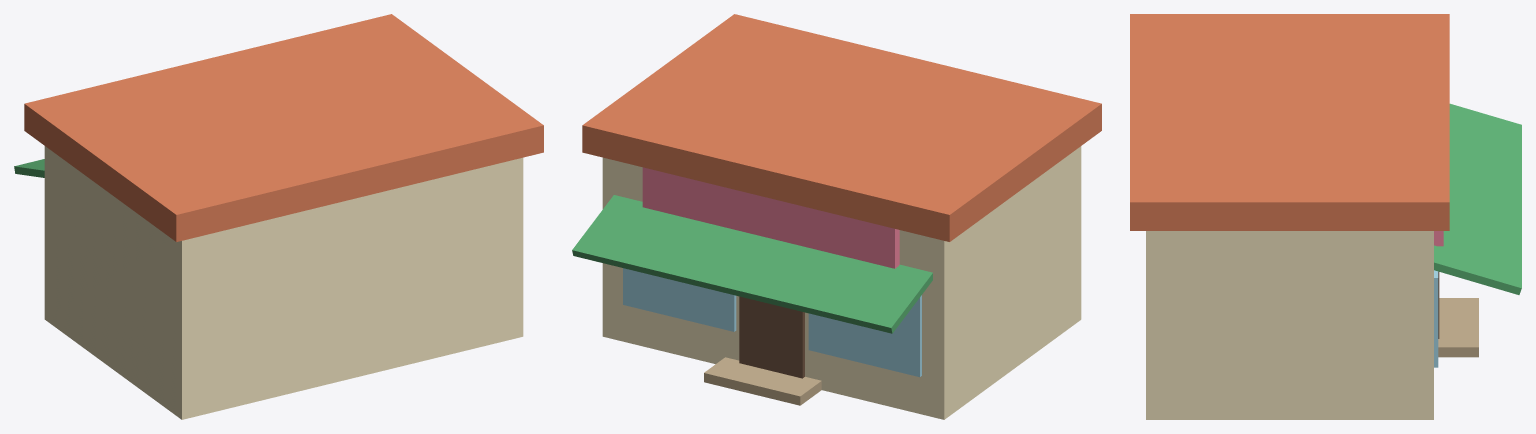
The model's file is shop.glb.
3 views of the same model, side by side, from view 1: azimuth 30°, elevation 25°; view 2: azimuth 150°, elevation 25°; view 3: azimuth 270°, elevation 25° (orthographic). The views are drawn at different scales.
Visible parts, largest first — view 1: walls, cap; view 2: cap, walls, awning, signboard, winL, door, winR, step; view 3: cap, walls, awning, step, winR.
Boxes of the visible parts, box(x1,y1,x2,y2) form: walls: box(44, 146, 523, 419); cap: box(24, 14, 543, 241); cap: box(582, 14, 1101, 241); walls: box(602, 146, 1081, 419); awning: box(572, 195, 932, 333); signboard: box(642, 167, 899, 268); winL: box(808, 295, 921, 377); door: box(739, 296, 804, 378); winR: box(623, 268, 736, 331); step: box(704, 357, 821, 405); cap: box(1130, 14, 1449, 230); walls: box(1146, 231, 1433, 419); awning: box(1434, 103, 1521, 294); step: box(1438, 298, 1478, 357); winR: box(1434, 270, 1438, 367).
Bounding box in the file's own units: 4.95 × 2.75 × 4.35.
